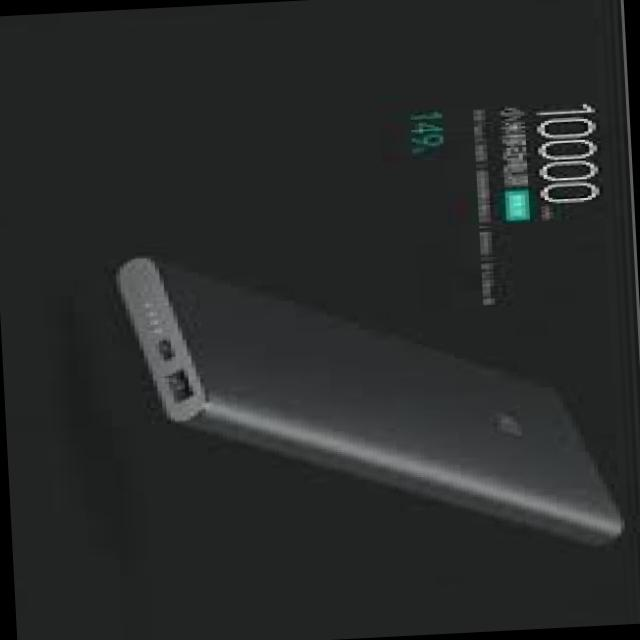power_bank: (109, 224, 626, 568)
